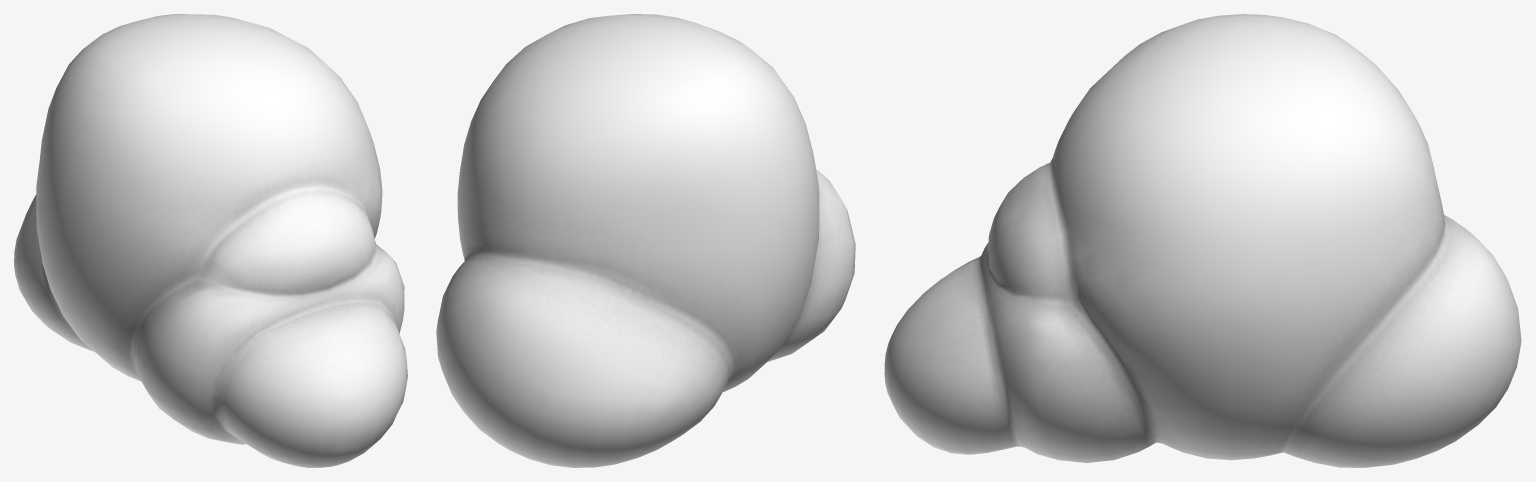
File: object_cloud_anim.obj
3 views of the same model, side by side, from view 1: azimuth 30°, elevation 25°; view 2: azimuth 150°, elevation 25°; view 3: azimuth 270°, elevation 25° (orthographic). The views are drawn at different scales.
Parts seen in each view (by area): view 1: cloud; view 2: cloud; view 3: cloud.
Boxes of the visible parts, box(x1,y1,x2,y2) form: cloud: box(14, 14, 407, 467); cloud: box(436, 14, 855, 467); cloud: box(884, 14, 1521, 467).
Bounding box in the file's own units: 0.9948 × 1.1 × 1.57.
